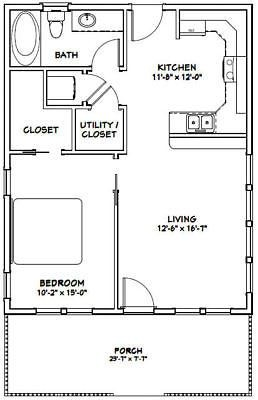door: (131, 7, 169, 44), (121, 274, 154, 306), (90, 40, 125, 69)
room: (124, 159, 241, 305), (132, 12, 246, 138), (17, 157, 114, 304), (13, 10, 123, 66), (12, 73, 68, 146)
wall: (242, 12, 256, 163), (3, 3, 13, 169), (2, 196, 14, 273), (163, 3, 253, 12), (71, 1, 133, 13), (6, 305, 36, 316), (242, 293, 254, 312), (93, 308, 125, 314), (155, 308, 178, 316), (234, 304, 251, 314), (3, 299, 11, 313), (198, 307, 207, 316)
window: (38, 305, 93, 317), (1, 275, 14, 300), (39, 3, 68, 13), (1, 169, 12, 192), (179, 306, 196, 316), (207, 308, 229, 315)
